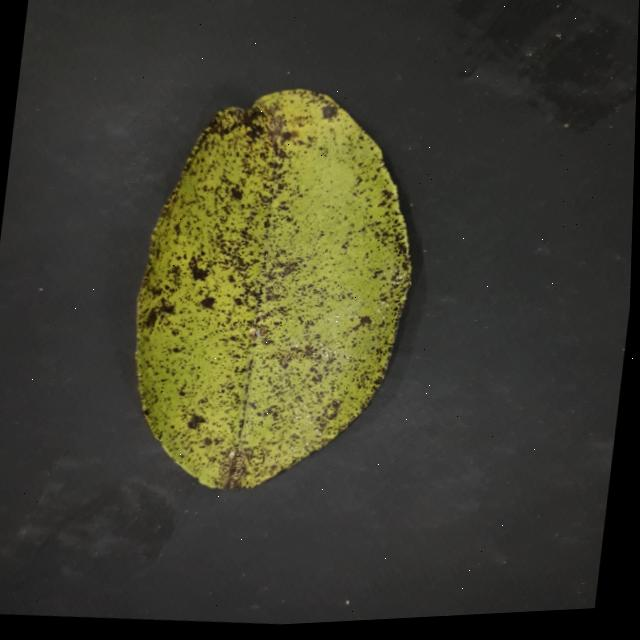greasy_spot: (136, 89, 410, 488)
